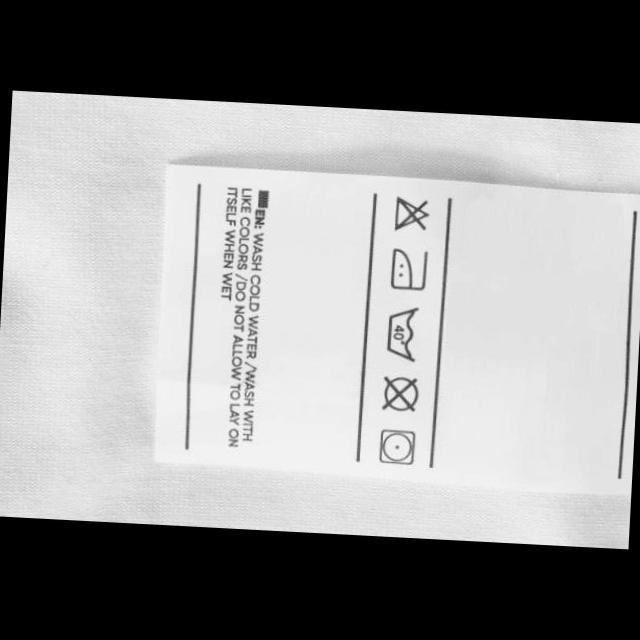40C: (382, 304, 422, 366)
DN_bleach: (388, 193, 432, 236)
DN_dry_clean: (378, 374, 422, 416)
iron_medium: (386, 247, 431, 294)
tumble_dry_low: (376, 427, 418, 467)
